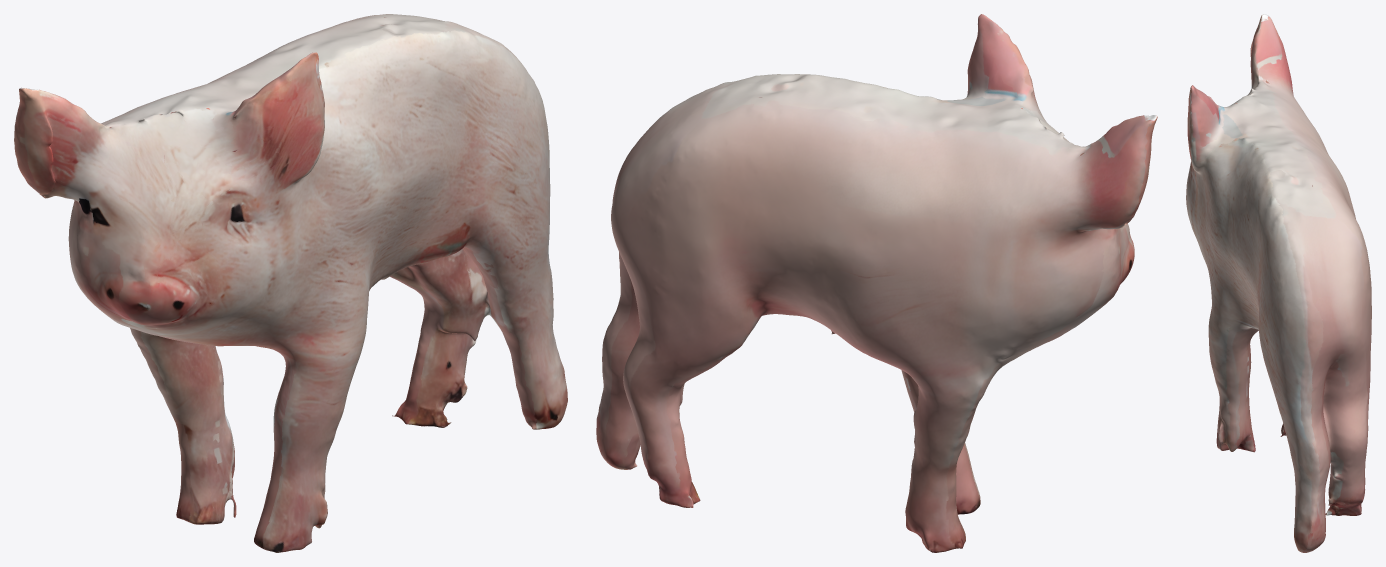
Rendered from bebe.glb.
3 renders of one model, left to right at view 1: azimuth 30°, elevation 25°; view 2: azimuth 150°, elevation 25°; view 3: azimuth 270°, elevation 25°, orthographic. The views are drawn at different scales.
Visible parts, largest first — view 1: mesh; view 2: mesh; view 3: mesh.
Boxes of the visible parts, left/top/right/bottom form: mesh: left=14, top=14, right=567, bottom=552; mesh: left=596, top=14, right=1157, bottom=552; mesh: left=1186, top=14, right=1371, bottom=552.
Size of the model in its own units: 1.56 by 1.33 by 0.6197.
1 material, 1 textured.
